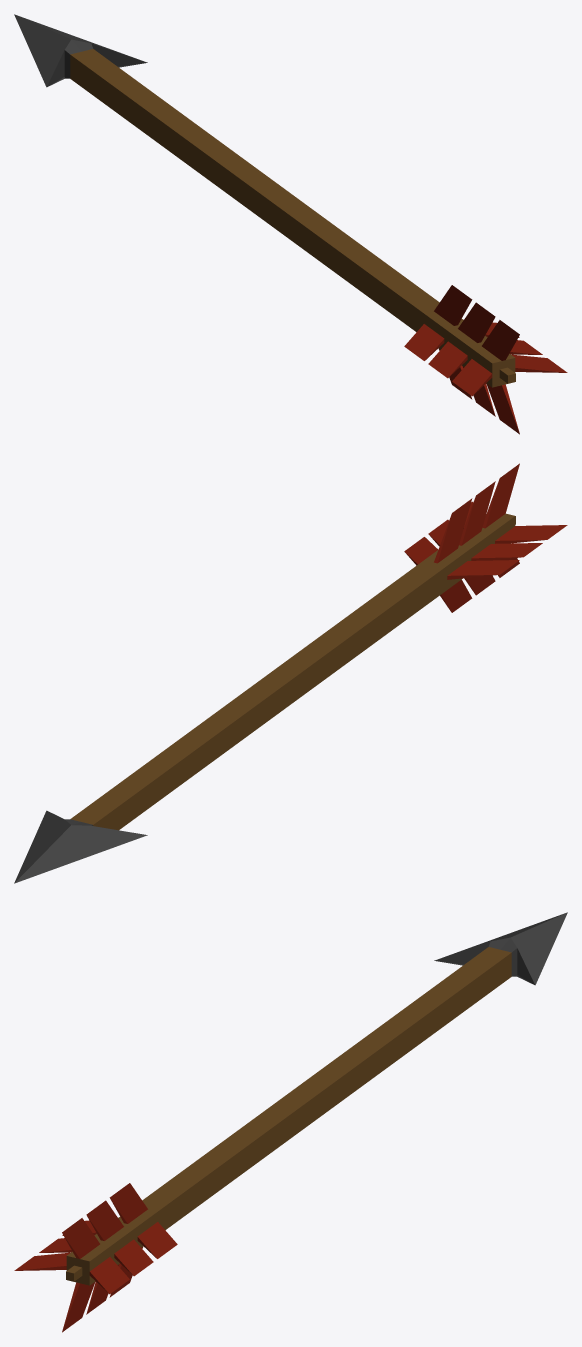
The model's file is Arrow.fbx.
3 views of the same model, one above another, from view 1: azimuth 30°, elevation 25°; view 2: azimuth 150°, elevation 25°; view 3: azimuth 330°, elevation 25° (orthographic).
Parts seen in each view (by area): view 1: Vert; view 2: Vert; view 3: Vert.
Boxes of the visible parts, box(x1,y1,x2,y2) form: Vert: box(14, 14, 567, 434); Vert: box(14, 463, 567, 883); Vert: box(14, 912, 567, 1332).
Size of the model in its own units: 0.1315 by 0.124 by 1.14.
Materials: 1 (1 with a texture image).
